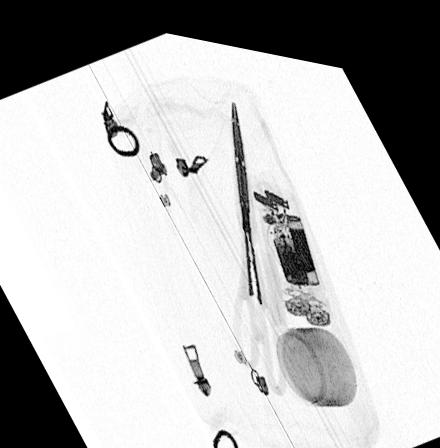Scissors: (228, 93, 294, 388)
